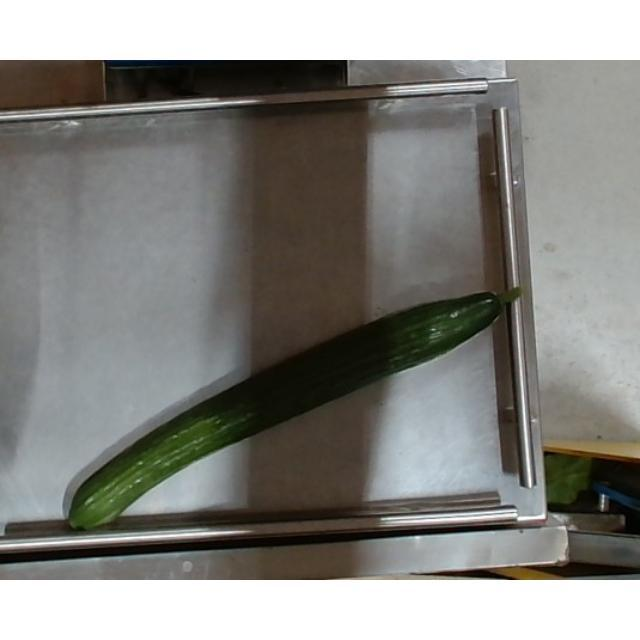cucumber: (65, 289, 521, 531)
